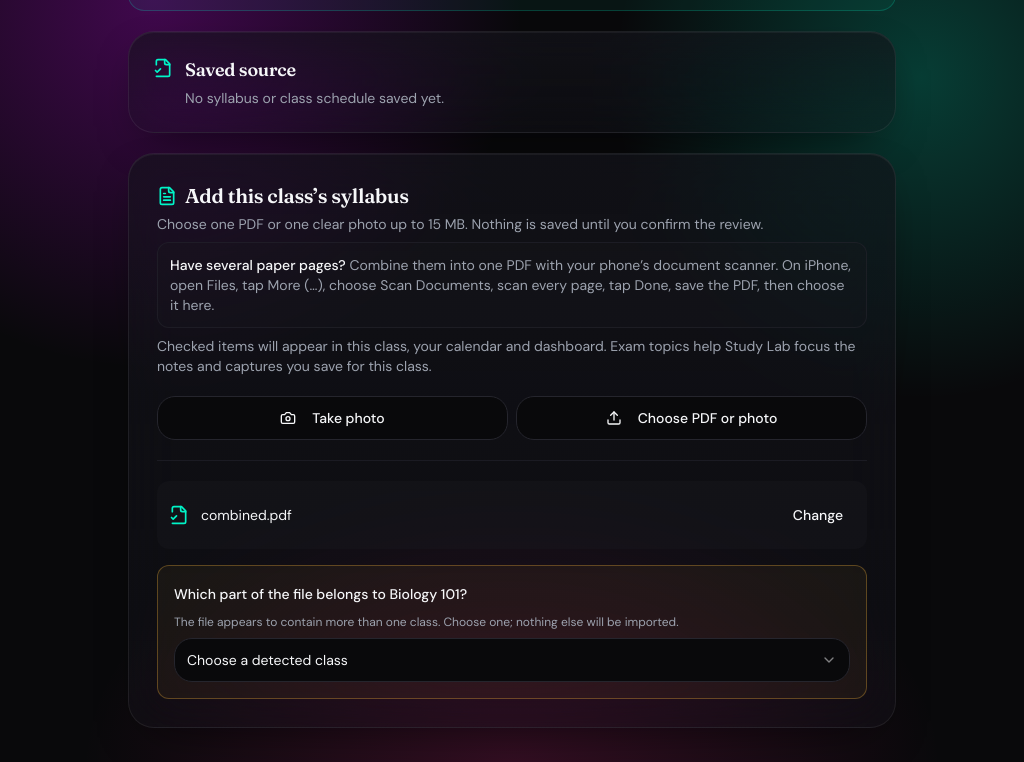
ClassSyllabusPage › requires an explicit detected-class choice when a file contains multiple classes
This screenshot has width=1024, height=762.
Earlier steps of the test are not shown.
(page scrolled)
Click the dropdown named "which part of the file". click: click(267, 660)
box: left=174, top=638, right=850, bottom=682
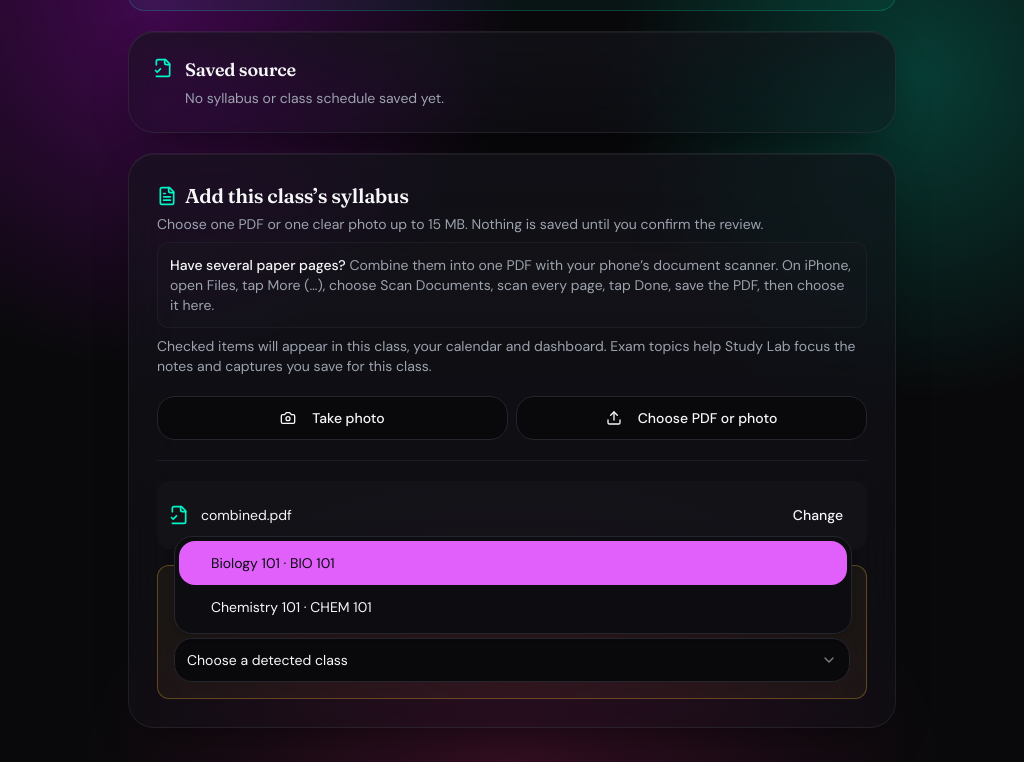
Click the option "Chemistry 101 · CHEM 101". click: click(291, 607)
box: left=211, top=598, right=372, bottom=616
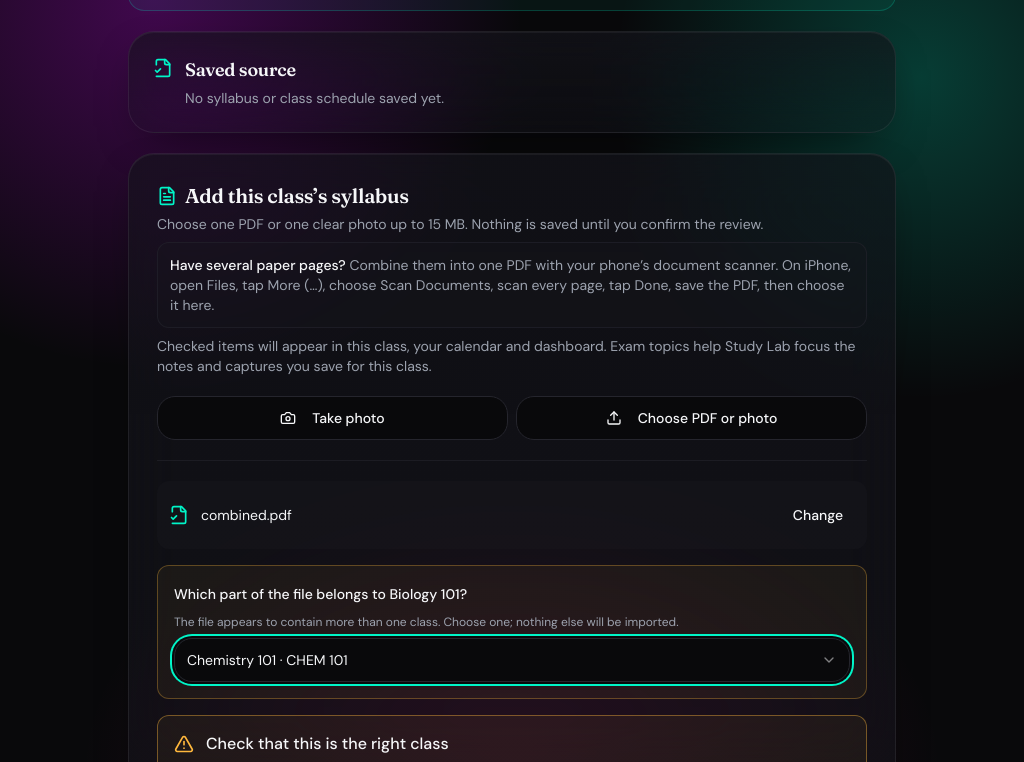
Check: the text "Check that this is the right class" is shown, box left=206, top=733, right=449, bottom=754
